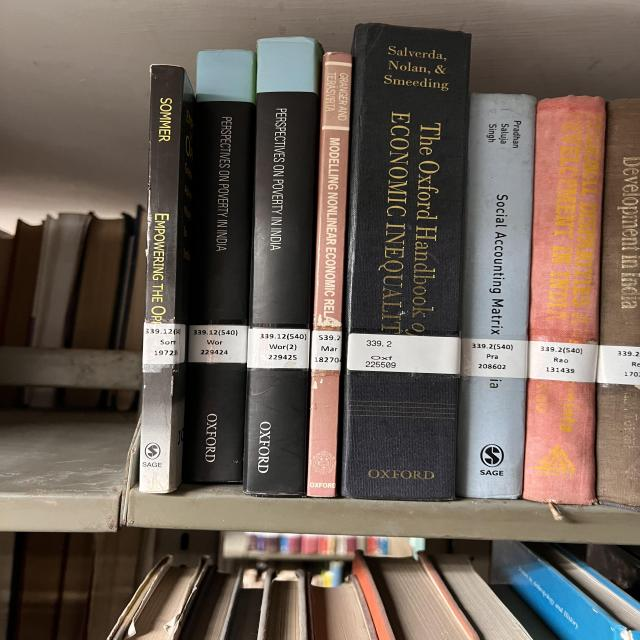Book: (342, 24, 470, 500), (243, 38, 323, 496), (523, 96, 605, 504), (457, 94, 537, 499), (183, 50, 257, 482), (140, 65, 193, 492), (307, 52, 352, 498), (597, 99, 640, 509)
Label: (347, 334, 460, 375), (528, 341, 598, 382), (462, 339, 528, 379), (247, 328, 310, 369), (188, 325, 248, 362), (142, 322, 185, 365), (597, 345, 640, 385), (310, 330, 342, 371)
